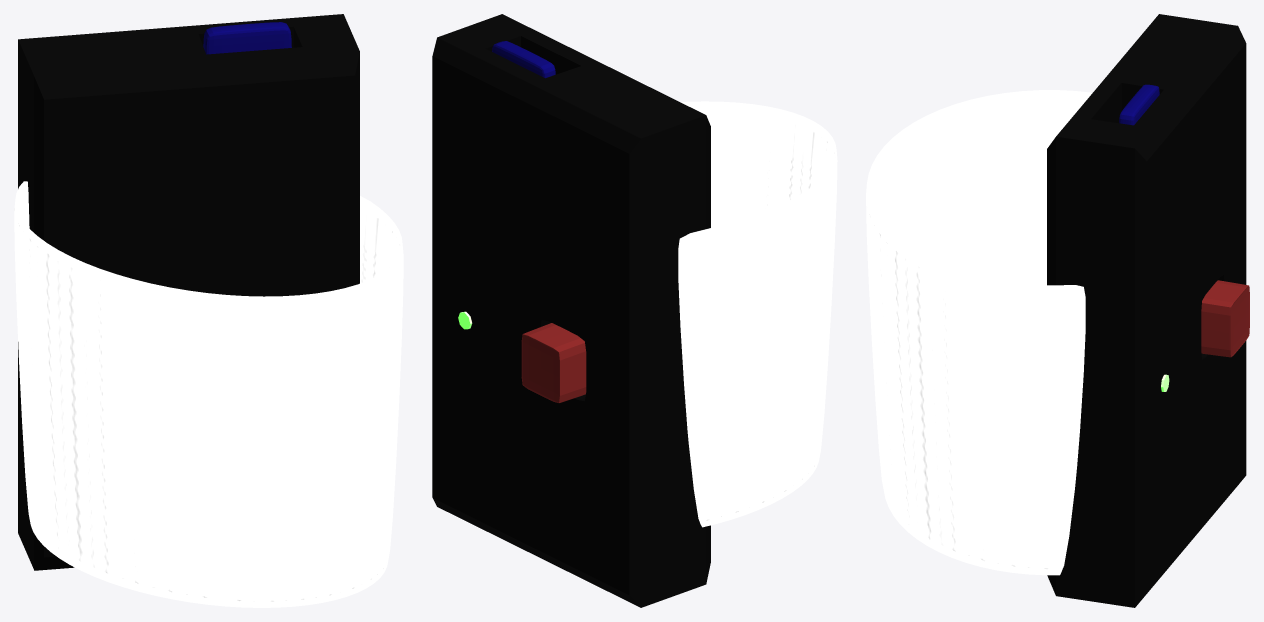
File: leg.glb
3 views of the same model, side by side, from view 1: azimuth 30°, elevation 25°; view 2: azimuth 150°, elevation 25°; view 3: azimuth 270°, elevation 25° (orthographic). The views are drawn at different scales.
Parts seen in each view (by area): view 1: Cylinder.004, Cube.001, Cube.006; view 2: Cube.001, Cylinder.004, Cube.007, Cube.006; view 3: Cube.001, Cylinder.004, Cube.007, Cube.006.
Part boxes in pixels (<box>): Cylinder.004: <box>14,181,403,607</box>; Cube.001: <box>18,14,359,570</box>; Cube.006: <box>203,22,291,54</box>; Cube.001: <box>432,14,710,607</box>; Cylinder.004: <box>678,101,837,527</box>; Cube.007: <box>521,323,586,402</box>; Cube.006: <box>492,41,555,78</box>; Cube.001: <box>1047,14,1246,607</box>; Cylinder.004: <box>866,90,1092,575</box>; Cube.007: <box>1201,280,1249,357</box>; Cube.006: <box>1119,84,1159,125</box>.
Bounding box in the file's own units: 0.3727 × 0.514 × 0.3822.
